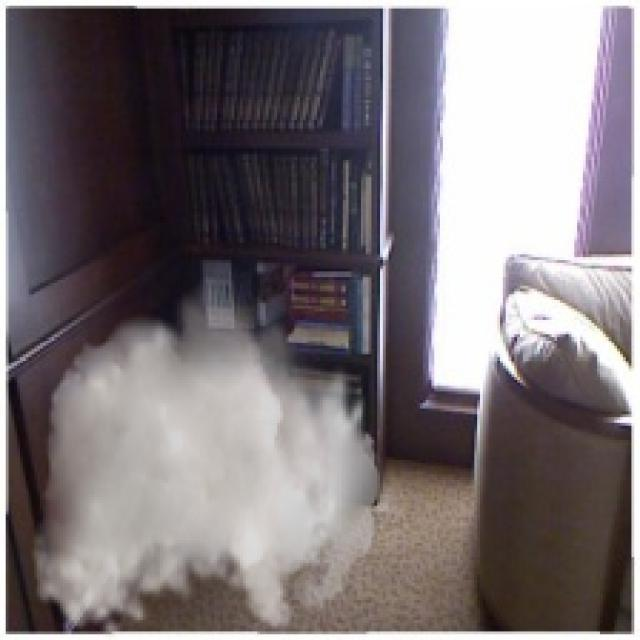smoke: (31, 269, 383, 637)
